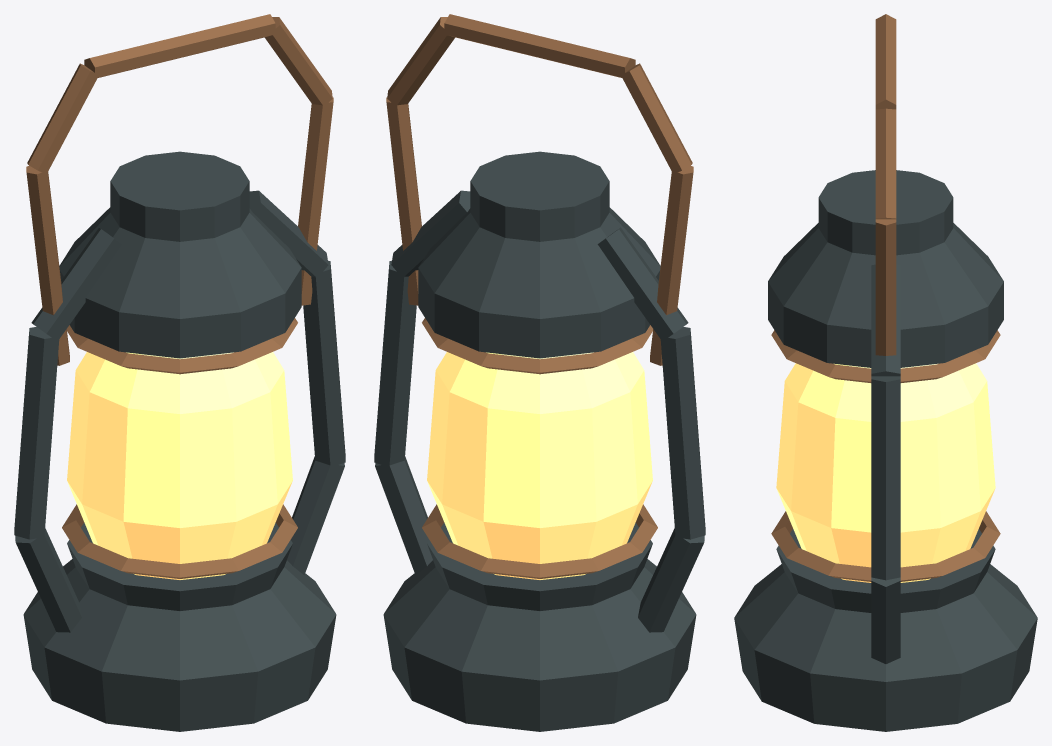
File: decor_hurricane_lamp.glb
The picture shows the model from 3 angles, left to right: view 1: azimuth 30°, elevation 25°; view 2: azimuth 150°, elevation 25°; view 3: azimuth 270°, elevation 25°; orthographic projection. The views are drawn at different scales.
Visible parts, largest first — view 1: geometry, light; view 2: geometry, light; view 3: geometry, light.
Part boxes in pixels (x1,y1,x2,y2): geometry: [14, 14, 345, 731]; light: [67, 352, 292, 579]; geometry: [374, 14, 705, 731]; light: [427, 352, 652, 579]; geometry: [734, 14, 1037, 731]; light: [776, 363, 995, 582].
Bounding box in the file's own units: 0.4399 × 0.804 × 0.36.
